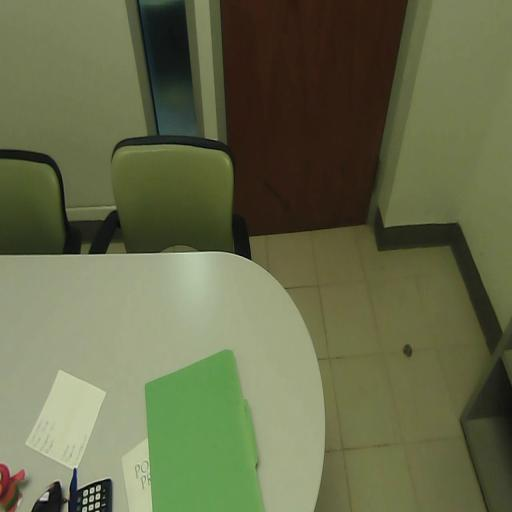pen: (68, 468, 77, 511)
